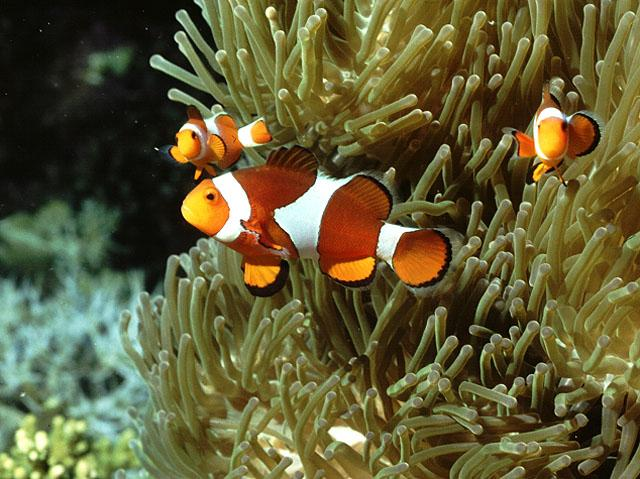Mulut: (173, 188, 210, 234), (176, 140, 197, 166), (536, 138, 562, 155)
Sirip Anal: (310, 241, 388, 294)
Sirip Dada: (230, 203, 302, 265), (568, 106, 608, 176), (495, 119, 537, 157)
Sirip Ekor: (388, 218, 476, 304), (242, 111, 278, 154)
Sirip Perut: (234, 248, 294, 310)
Sirip Punggung: (258, 138, 399, 224), (176, 96, 247, 128)
